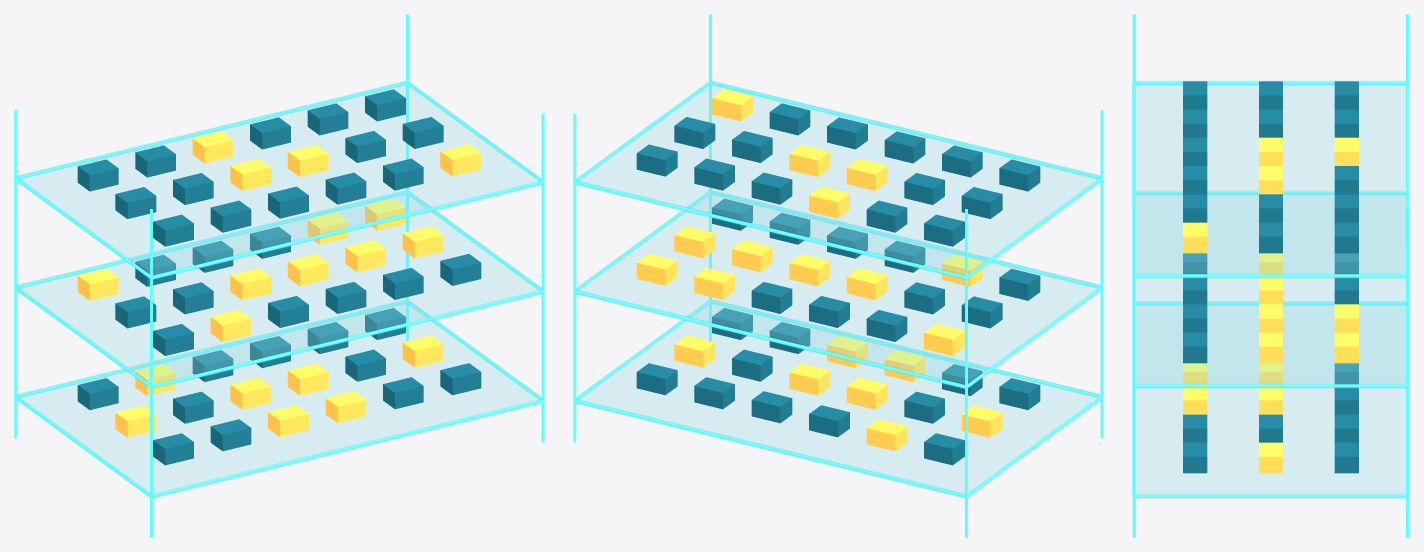
The model's file is pss.glb.
The picture shows the model from 3 angles, left to right: view 1: azimuth 30°, elevation 25°; view 2: azimuth 150°, elevation 25°; view 3: azimuth 270°, elevation 25°; orthographic projection.
Visible parts, largest first — view 1: pss, desks, desks-lit, frame; view 2: pss, desks, desks-lit, frame; view 3: pss, desks, desks-lit, frame.
Boxes of the visible parts, x1,y1,x2,y2 form: pss: (17,81,541,498); desks: (77,89,481,465); desks-lit: (77,131,481,437); frame: (14,14,544,537); pss: (576,81,1100,498); desks: (636,103,1040,465); desks-lit: (636,89,1002,451); frame: (573,14,1103,537); pss: (1135,81,1406,498); desks: (1183,81,1358,473); desks-lit: (1183,137,1358,473); frame: (1132,14,1409,537).
Size of the model in its own units: 0.3021 by 0.24 by 0.1824.
